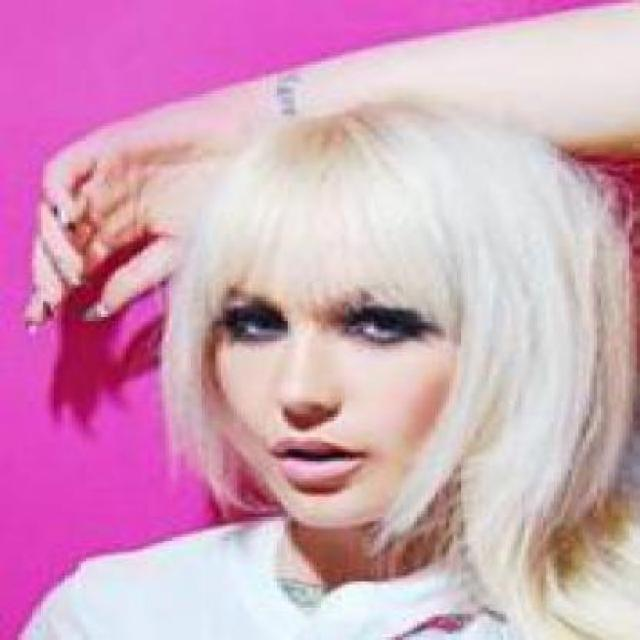closed-mouth: (267, 433, 375, 487)
